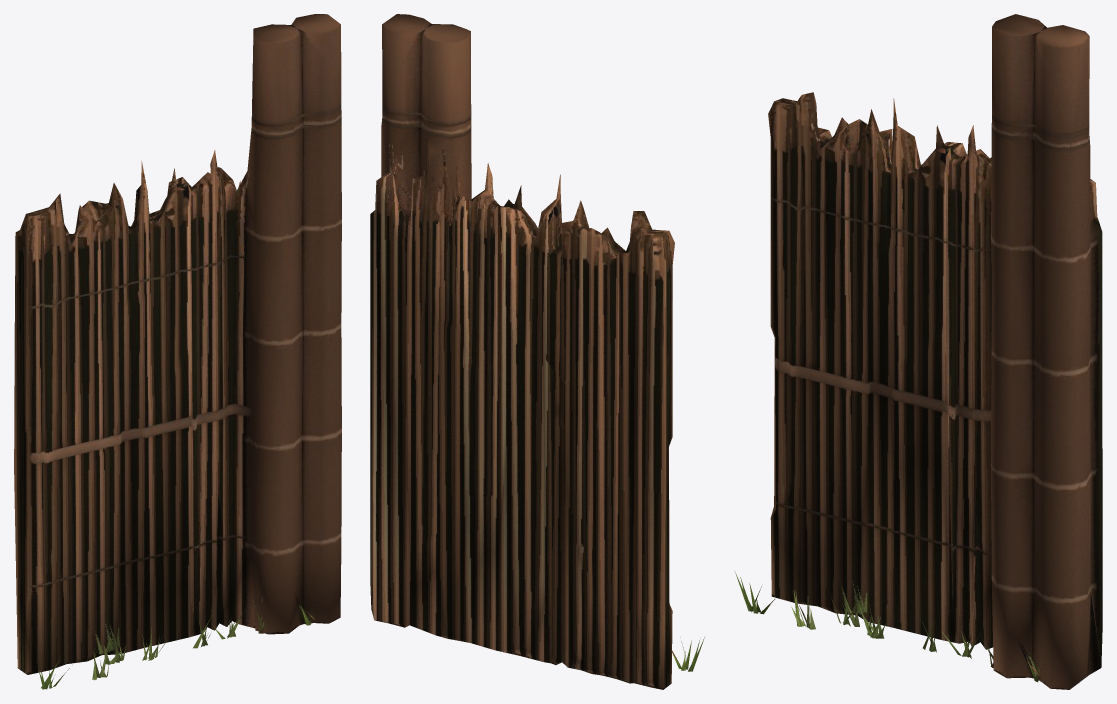
File: fence_reed_end_e_pair.glb
3 renders of one model, left to right at view 1: azimuth 30°, elevation 25°; view 2: azimuth 150°, elevation 25°; view 3: azimuth 330°, elevation 25°, orthographic. The views are drawn at different scales.
Parts seen in each view (by area): view 1: fence_reed_end_e_pair_lod0; view 2: fence_reed_end_e_pair_lod0; view 3: fence_reed_end_e_pair_lod0.
Part boxes in pixels (box(x1,y1,x2,y2)): fence_reed_end_e_pair_lod0: box(14, 14, 341, 689); fence_reed_end_e_pair_lod0: box(370, 14, 704, 689); fence_reed_end_e_pair_lod0: box(735, 14, 1102, 689).
Size of the model in its own units: 1.04 by 1.87 by 0.1996.
1 material, 1 textured.
